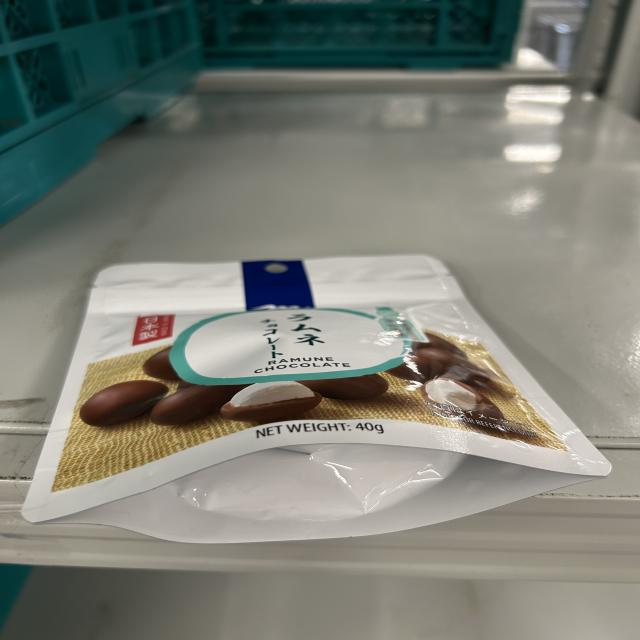object_name: (66, 268, 578, 515)
